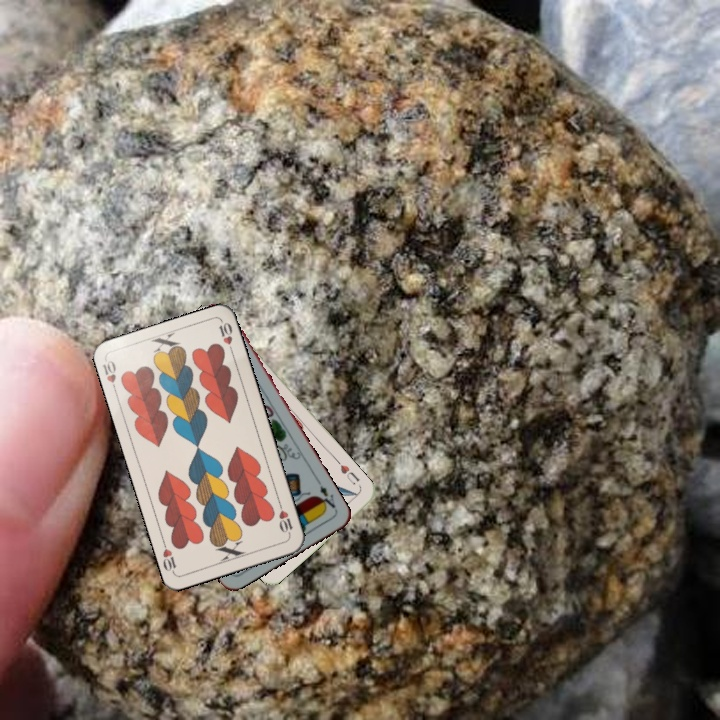EA: (314, 476, 338, 512)
H10: (274, 498, 295, 538), (99, 356, 119, 395)
HU: (336, 461, 362, 487)
